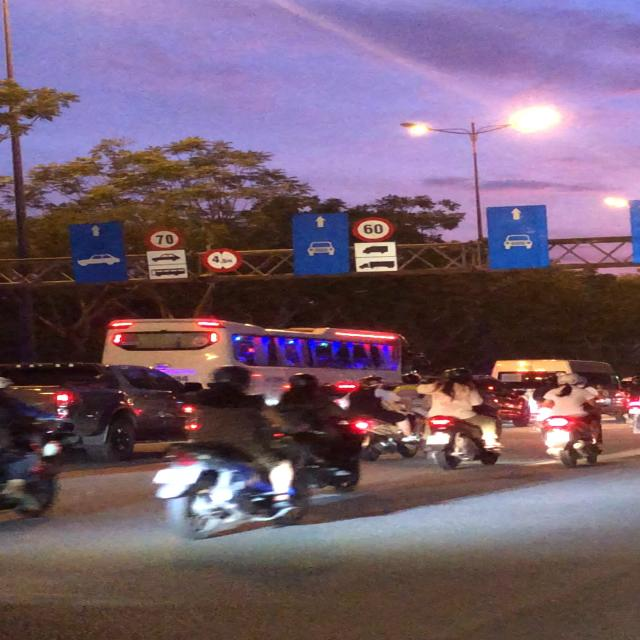Bien bao han che chieu cao: (202, 247, 244, 274)
Bien bao toc do toi da cho phep: (351, 215, 398, 244), (141, 228, 180, 252)
